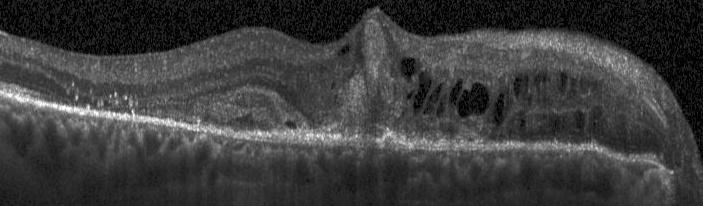intraretinal_cyst: (458, 82, 489, 117), (413, 73, 431, 117), (400, 58, 416, 84), (449, 78, 463, 105), (493, 94, 505, 125), (429, 83, 443, 104), (548, 110, 560, 132), (513, 77, 523, 99), (572, 112, 584, 129), (558, 72, 567, 91), (437, 100, 446, 118), (423, 102, 435, 115), (338, 43, 349, 56), (285, 122, 297, 129), (534, 73, 540, 86), (518, 118, 525, 129), (523, 77, 527, 91), (407, 91, 412, 99), (331, 81, 336, 89), (542, 77, 546, 83)
subretinal_hyperreflective_material: (320, 18, 404, 134), (137, 86, 307, 133)
